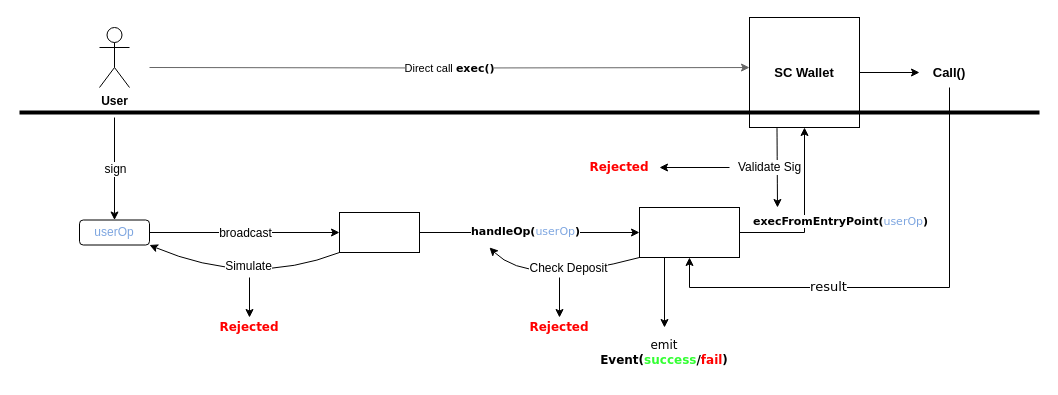
Image size: 1058x395. Some labels were removed from this diagram. Here are the shapes that lost their labels. From the top down, the centre of each, then its label:
point 379,232: Bundler
point 689,232: EntryPoint
